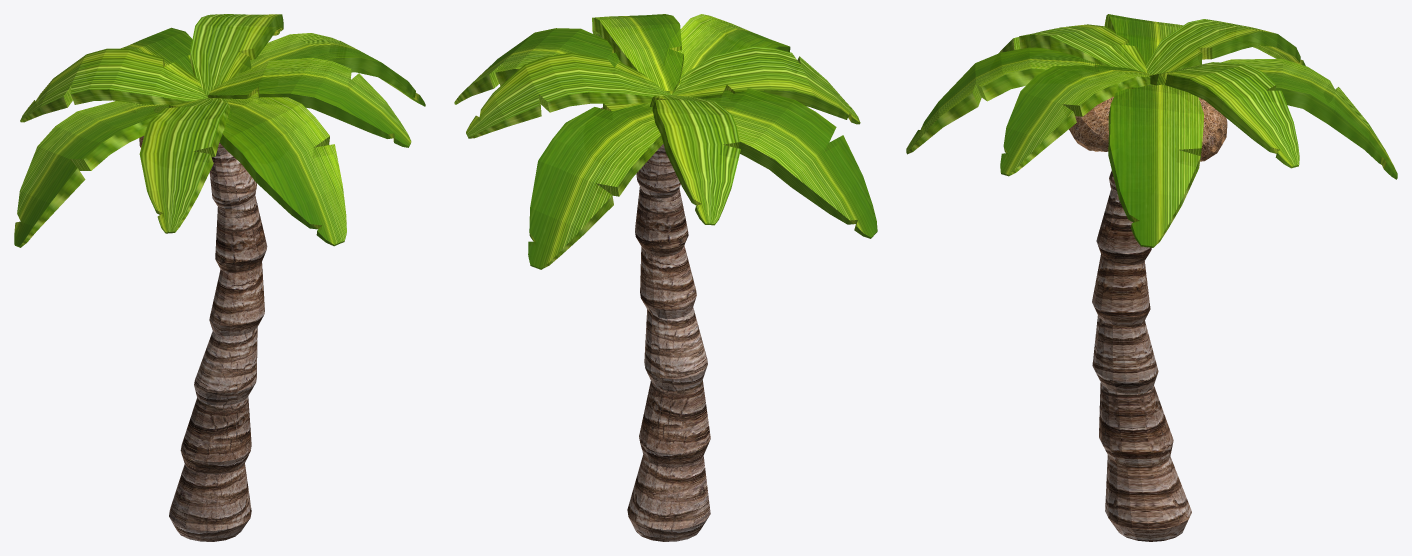
The model's file is Palmeira.1_Textured.Anim.fbx.
The picture shows the model from 3 angles, left to right: view 1: azimuth 30°, elevation 25°; view 2: azimuth 150°, elevation 25°; view 3: azimuth 270°, elevation 25°; orthographic projection. The views are drawn at different scales.
Parts seen in each view (by area): view 1: Folha, Tronco; view 2: Folha, Tronco; view 3: Folha, Tronco.
Part boxes in pixels (x1,y1,x2,y2): Folha: (14,14,425,247); Tronco: (169,142,267,541); Folha: (454,14,877,269); Tronco: (627,144,710,541); Folha: (906,14,1397,247); Tronco: (1092,85,1191,541).
Size of the model in its own units: 1443 by 1572 by 1435.
Materials: 3 (3 with a texture image).
